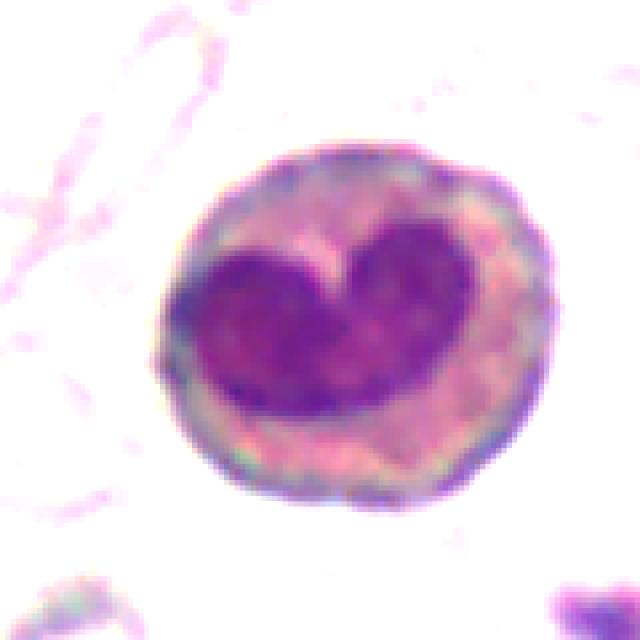WBC: (144, 133, 571, 523)
